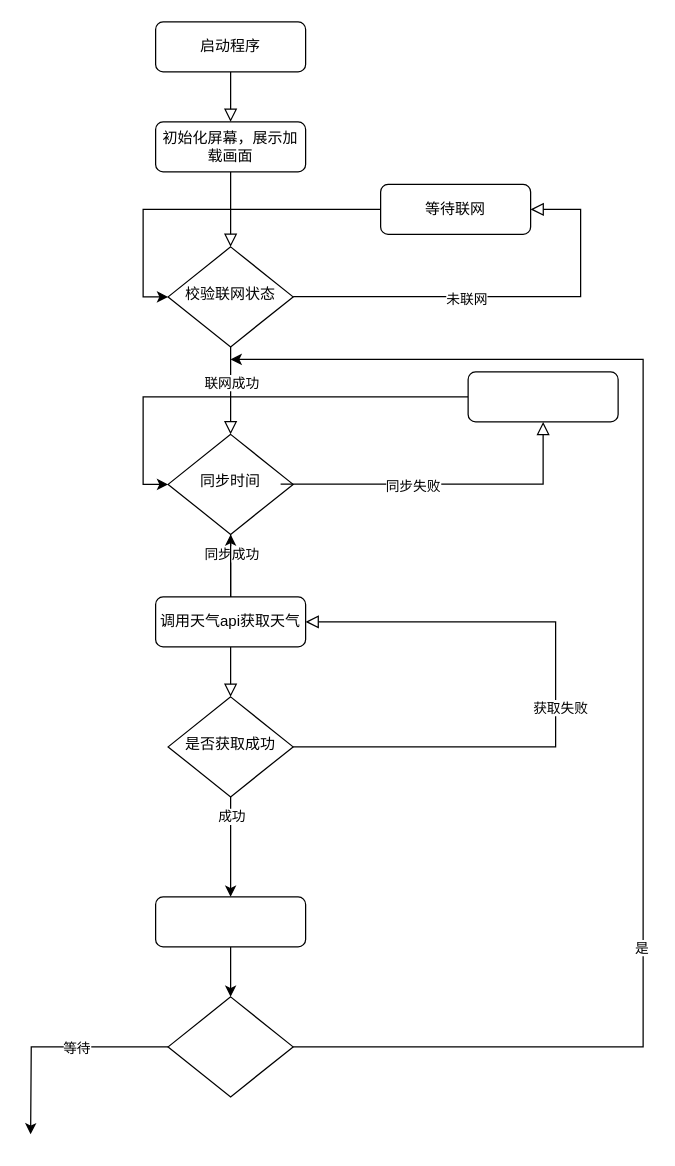
Image size: 675x1166. Some labels were removed from this diagram. Here are the shapes that lost their labels. From the top down, the centre of each, then its label:
point 542,396: 重试
point 230,921: 渲染lcd屏幕
point 230,1046: 是否再次同步
